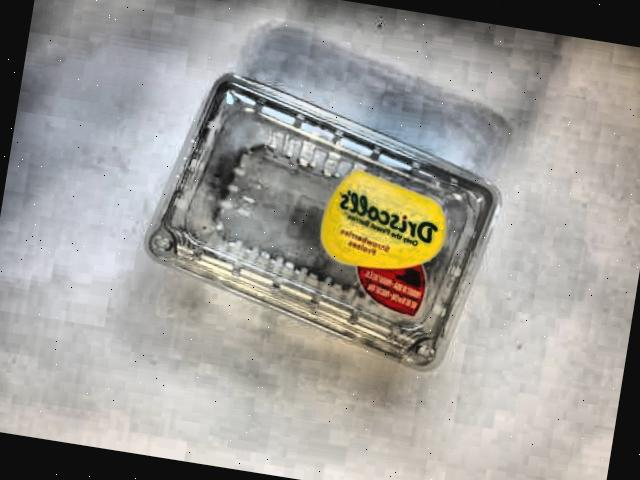Plastic: (107, 45, 521, 391)
